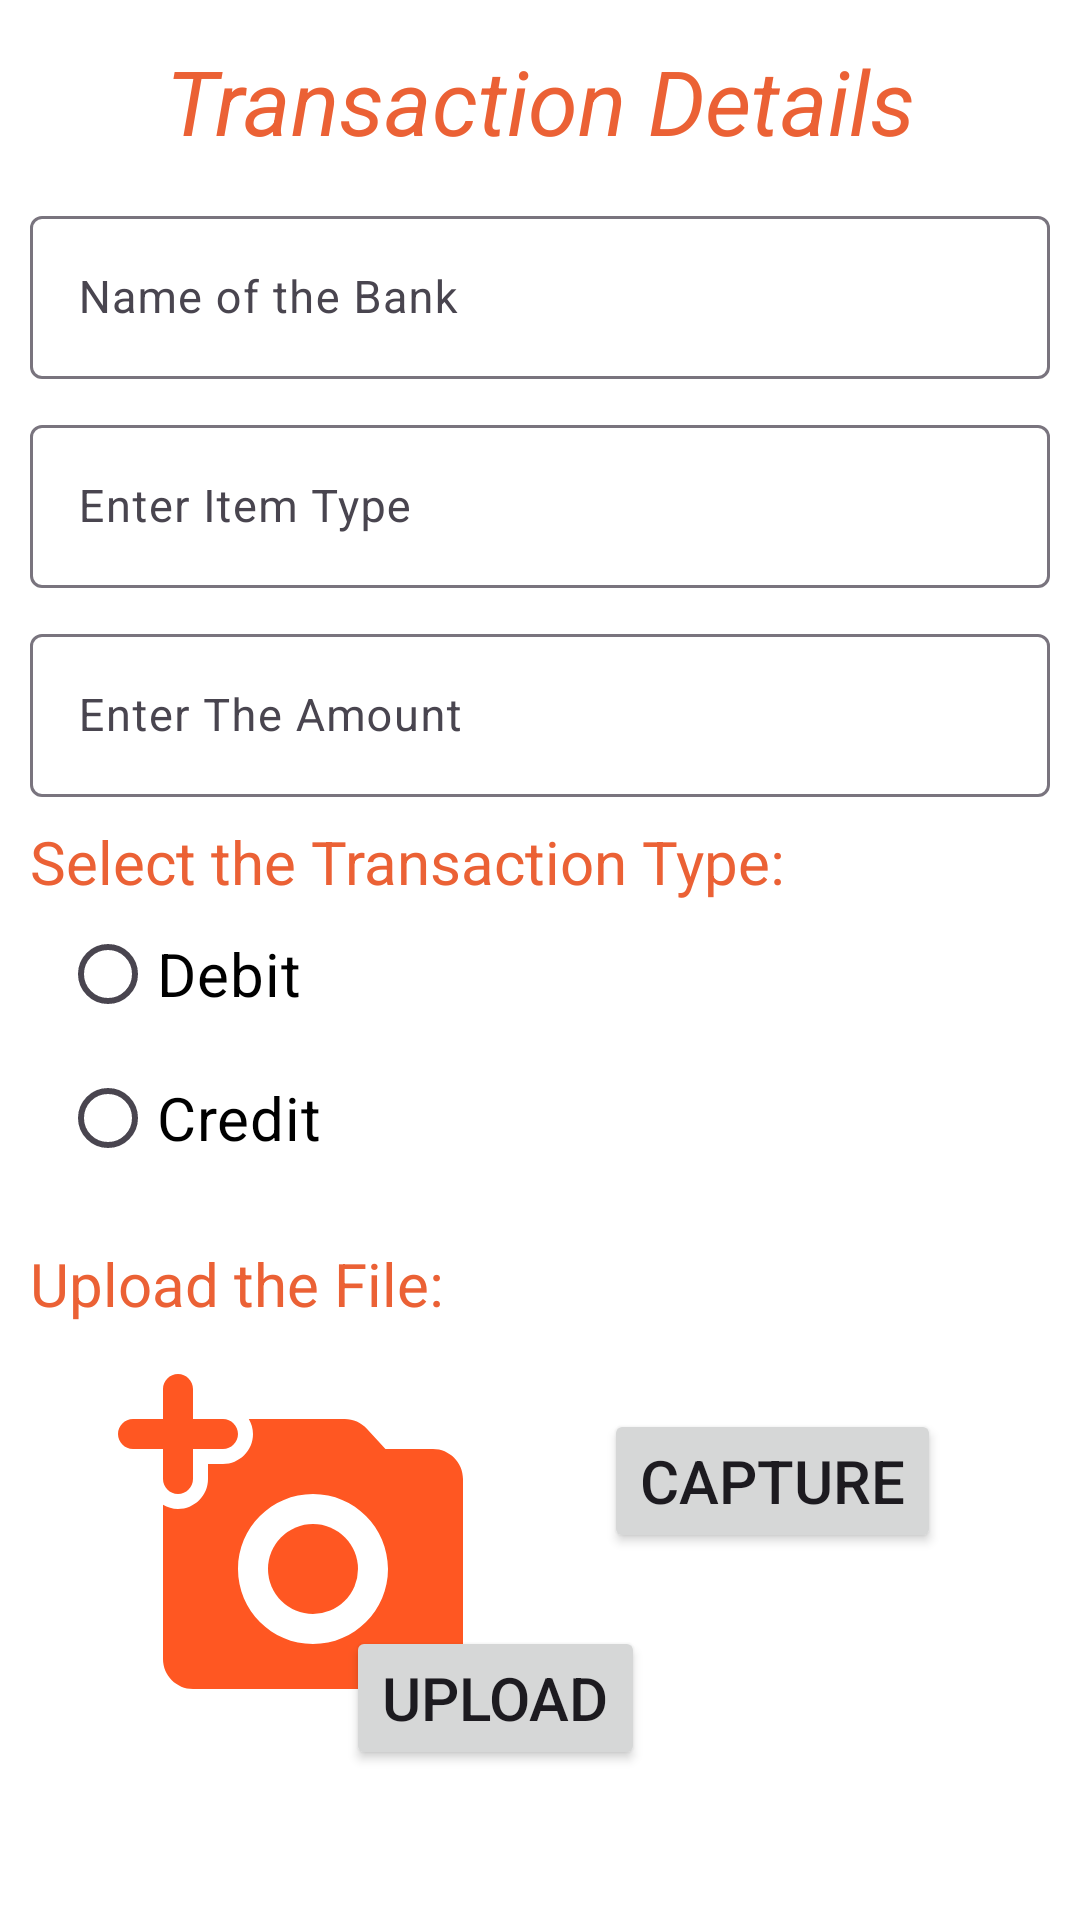

Screen size 1080*1920. Icon name, then its center in pixels as (x=x, y=y):
add photo: (x=298, y=1546)
